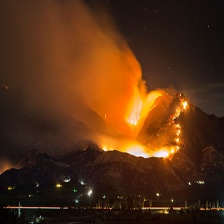fire: (169, 93, 197, 149), (98, 142, 182, 160), (126, 94, 146, 127)
smoke: (1, 1, 137, 156)
